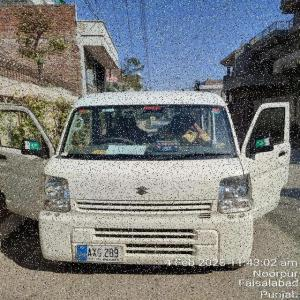Plate: (70, 242, 127, 266)
